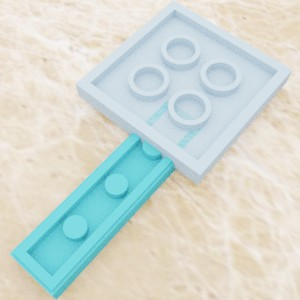lego: (9, 98, 208, 300), (75, 0, 292, 184)
